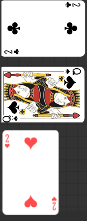2C: (3, 47, 21, 55)
2H: (4, 133, 11, 149), (51, 195, 58, 211)
